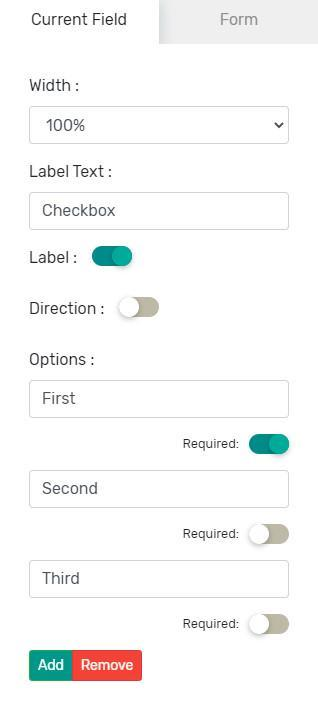button: (161, 2, 318, 43), (74, 651, 143, 683), (31, 651, 75, 681)
dropdown: (31, 109, 290, 143)
input: (29, 471, 290, 510), (32, 563, 289, 601), (31, 381, 291, 418), (31, 194, 288, 228)
label: (25, 9, 134, 32), (26, 161, 116, 182), (28, 298, 107, 320), (28, 351, 98, 372), (183, 615, 243, 635), (26, 248, 78, 271), (183, 434, 240, 454), (29, 77, 80, 98), (180, 526, 241, 542)
switch: (247, 523, 293, 550), (247, 611, 292, 636), (118, 297, 161, 322), (249, 434, 291, 458), (92, 246, 135, 269)
